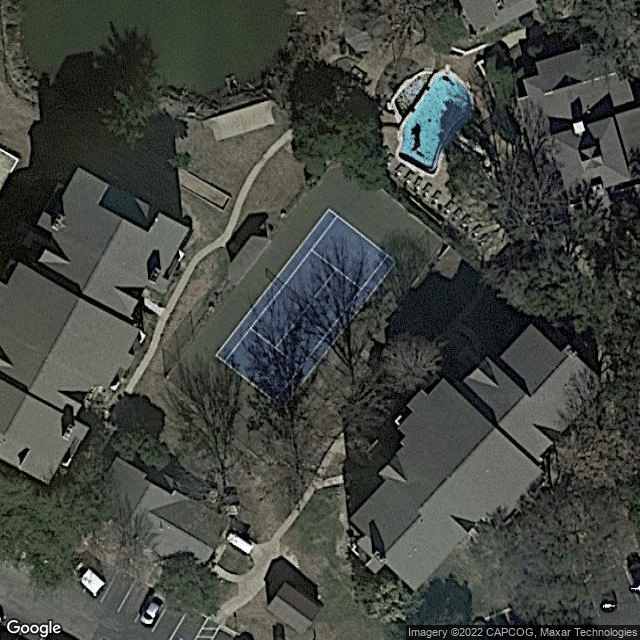Court: (216, 208, 401, 410)
